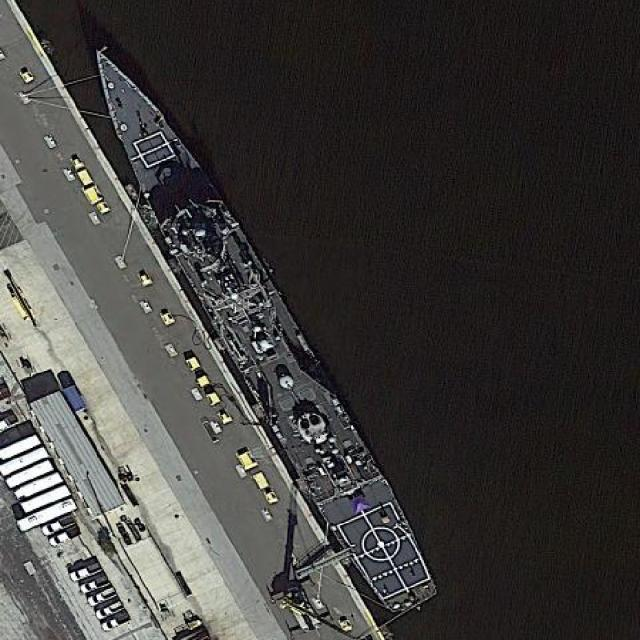Frigate: (68, 30, 445, 622)
